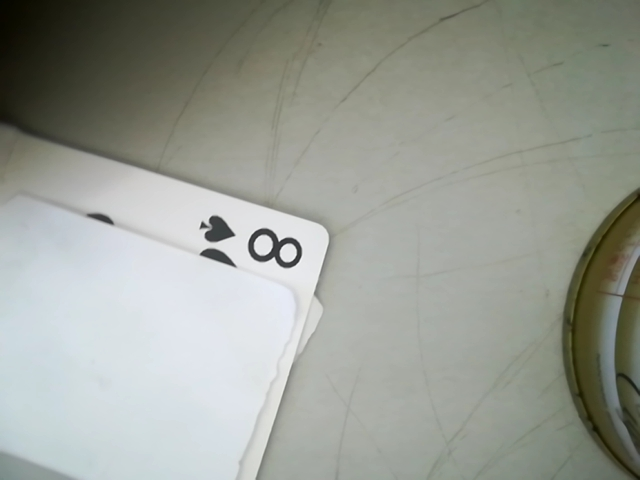ht 8: (174, 208, 324, 278)
